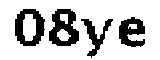0: (12, 5, 46, 51)
8: (48, 6, 82, 53)
e: (119, 15, 152, 54)
y: (80, 13, 115, 60)
